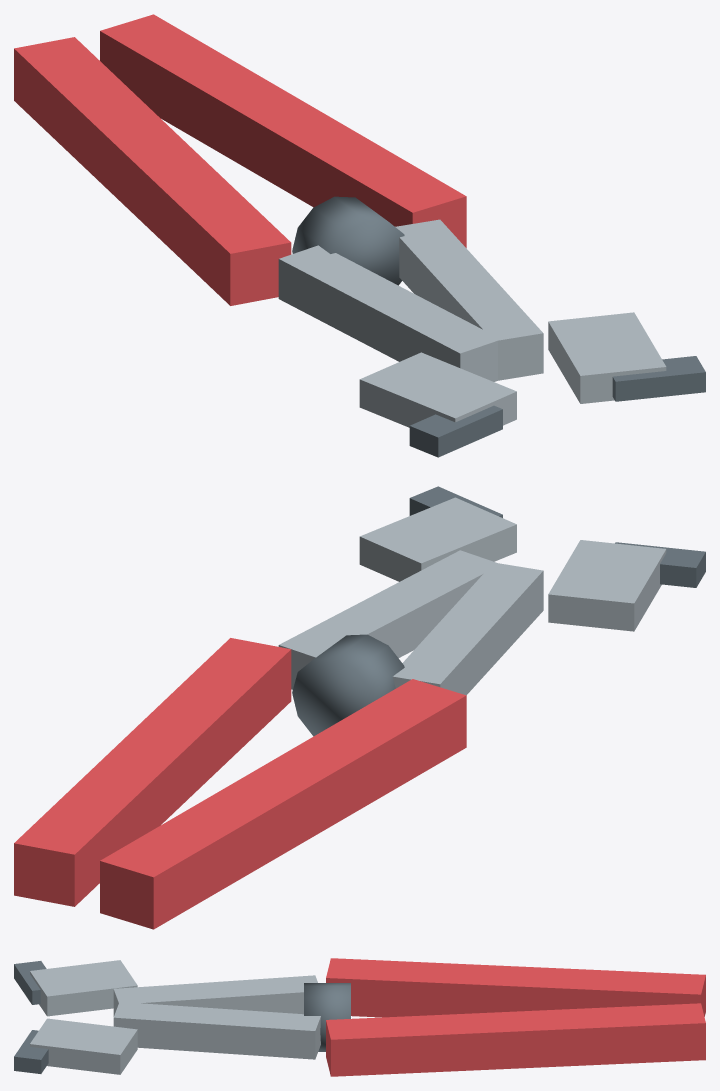
The model's file is wrong-nail-clipper.glb.
3 views of the same model, one above another, from view 1: azimuth 30°, elevation 25°; view 2: azimuth 150°, elevation 25°; view 3: azimuth 270°, elevation 25° (orthographic). The views are drawn at different scales.
Parts seen in each view (by area): view 1: wrong-nail-clipper; view 2: wrong-nail-clipper; view 3: wrong-nail-clipper.
Part boxes in pixels (left/top/right/bottom): wrong-nail-clipper: left=14, top=14, right=705, bottom=457; wrong-nail-clipper: left=14, top=486, right=705, bottom=929; wrong-nail-clipper: left=14, top=958, right=705, bottom=1076.
Size of the model in its own units: 0.1493 by 0.044 by 0.4404.
